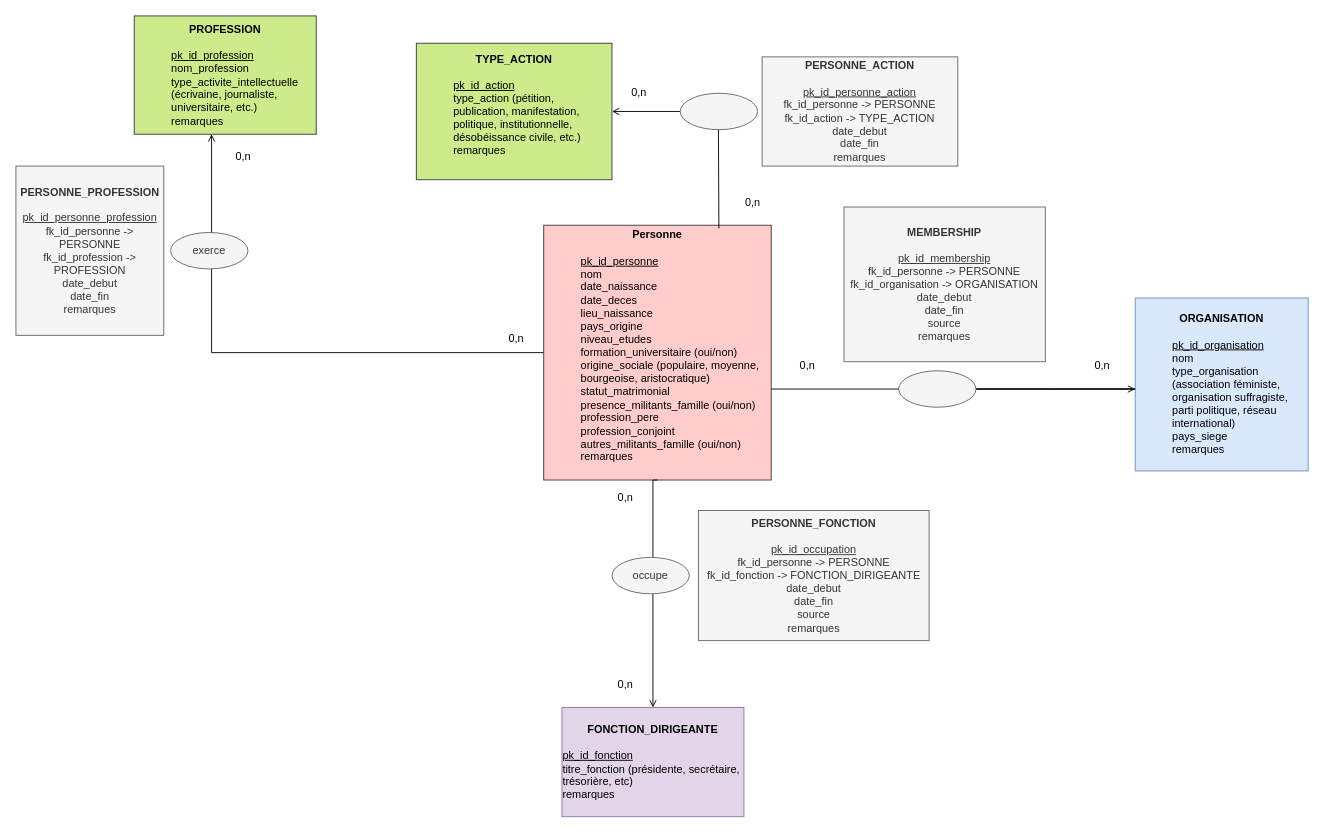
The diagram is 1324 pixels wide and 840 high, and some of its shapes have lost their labels. The shapes that lost their labels are listed below. From the top down, each one's centre as x and y in pixels, then its label:
At [718,111]: "pratique".
At [937,388]: "membership".
